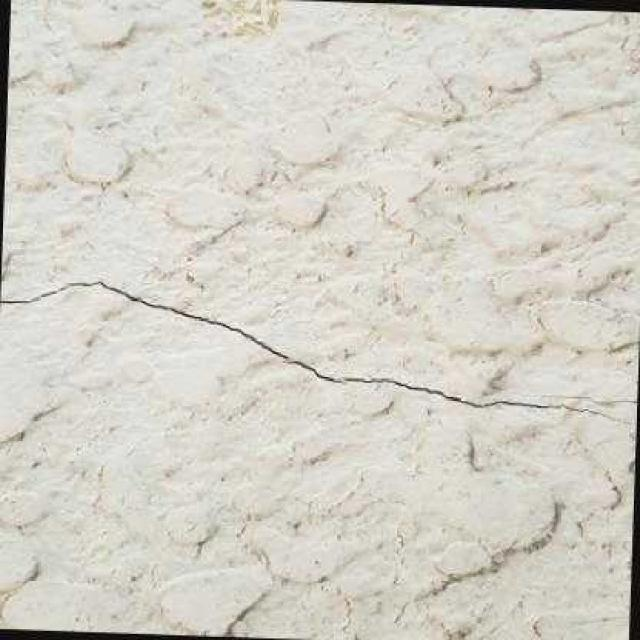D00: (0, 279, 635, 424), (517, 392, 637, 404)
